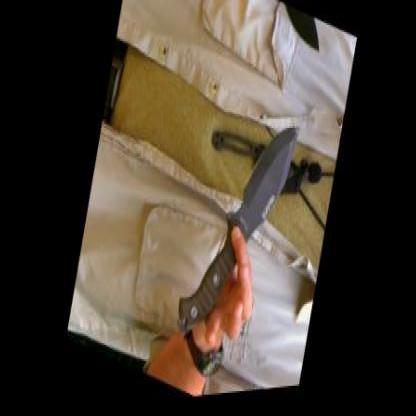knife: (168, 76, 306, 380), (219, 0, 328, 76)
